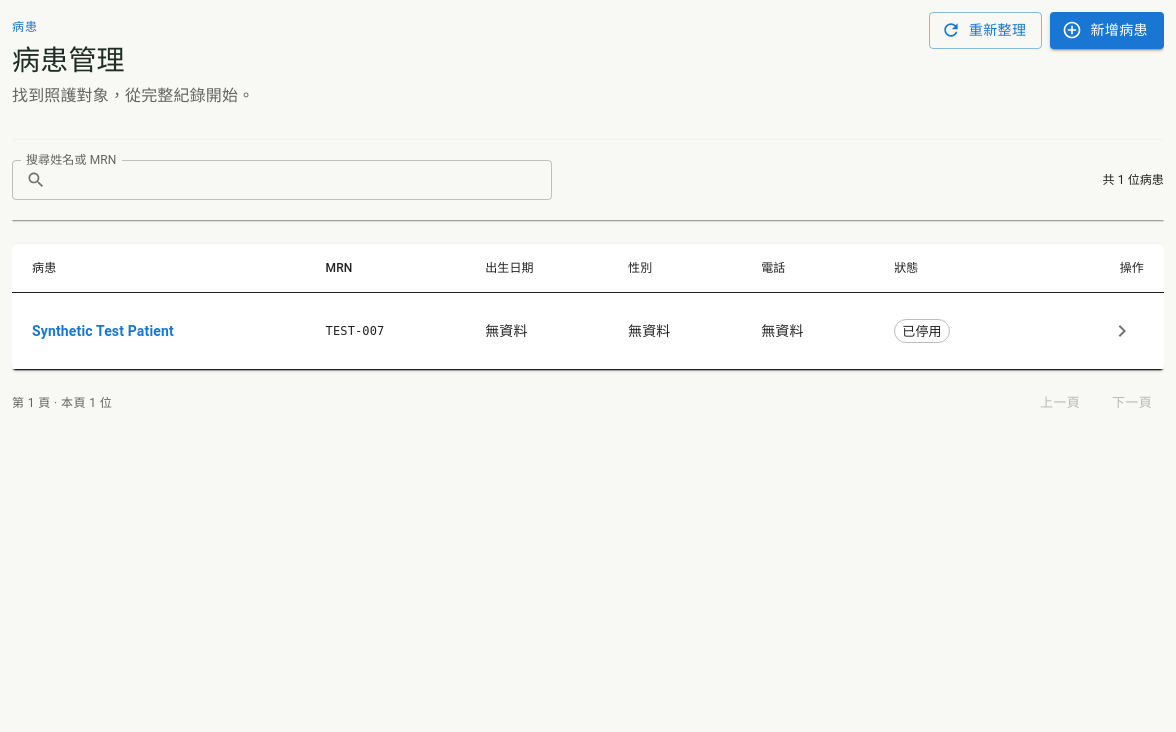
Test: error clears old records, offers retry and does not imply an empty dataset
Check: the link "Synthetic Test Patient" is shown, box [32,324,174,340]
What coordinates should you click on to do the following:
click the button "重新整理"
I would click on:
 (986, 30)
Its box is [929,12,1042,48].
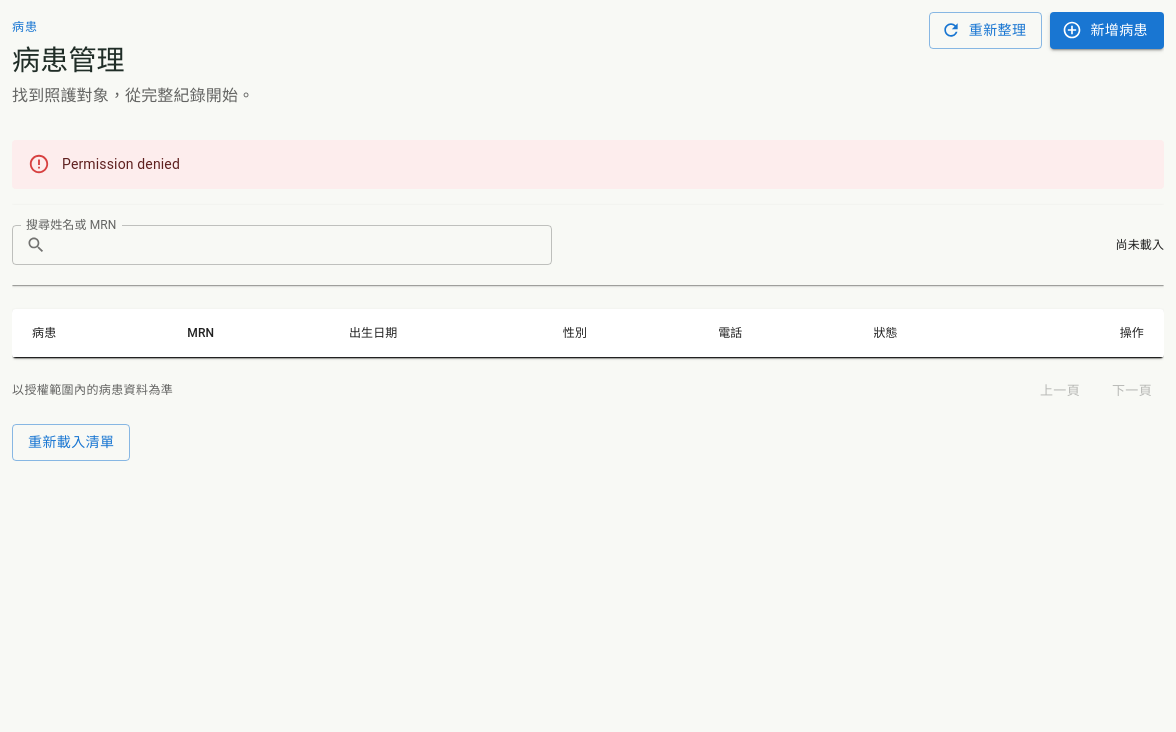
Check: the text "從第一位病患開始" is not shown
Check: the message "Permission denied" is shown, box [12,140,1164,188]
Check: the link "Synthetic Test Patient" is gone
What coordinates should you click on to do the following:
click the button "重新載入清單"
I would click on:
 (71, 443)
Its box is [12,424,130,461].
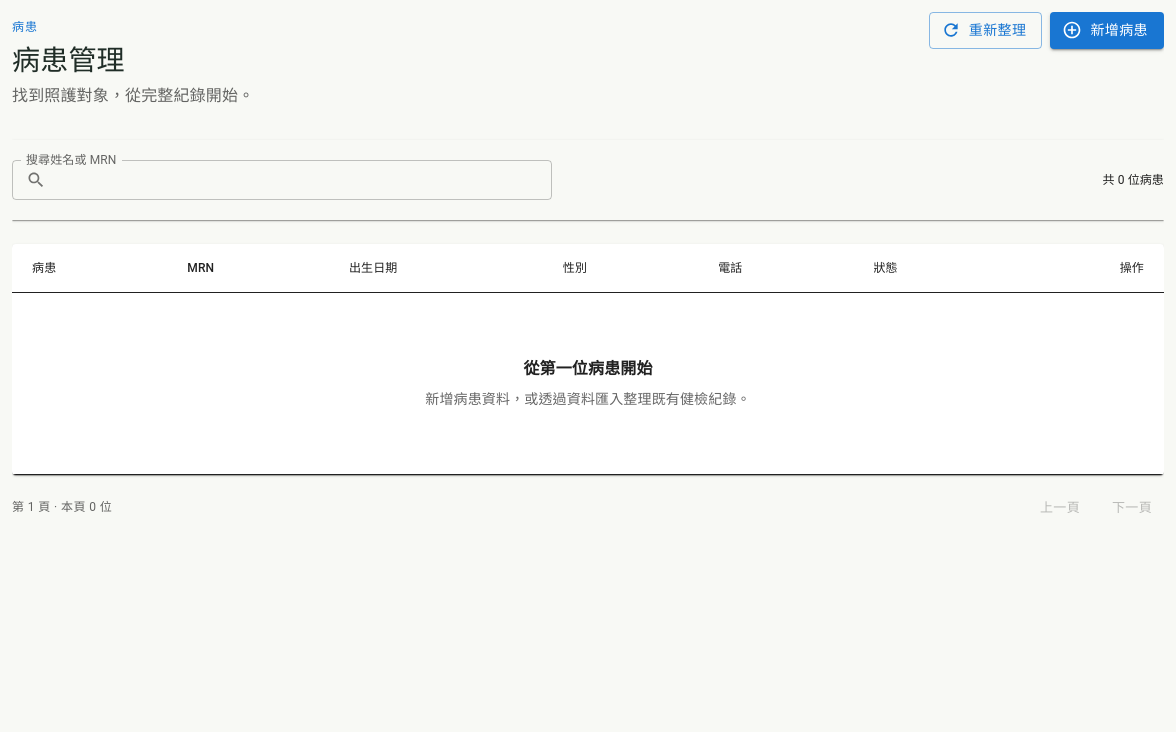
Check: the text "從第一位病患開始" is shown, box [523,360,653,378]
